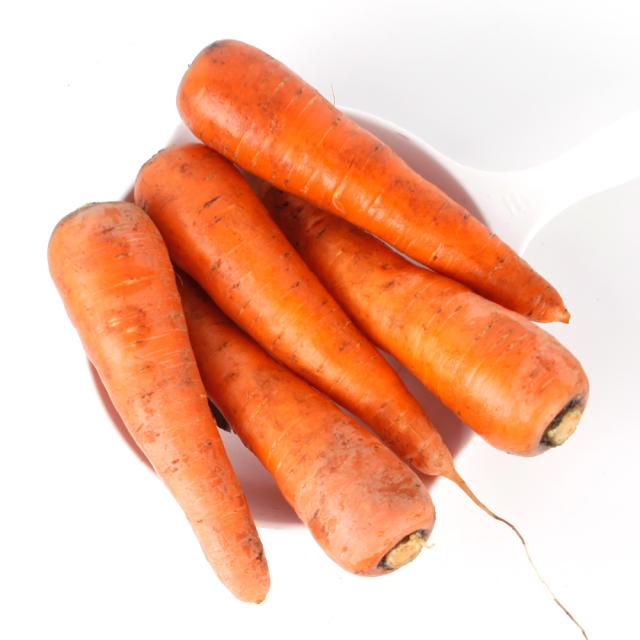carrot: (134, 144, 496, 498), (177, 38, 572, 326), (42, 202, 281, 606)
